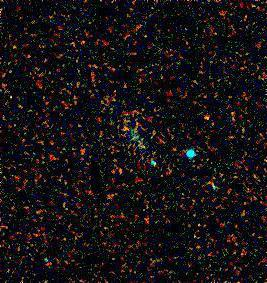star: (191, 103, 221, 133)
